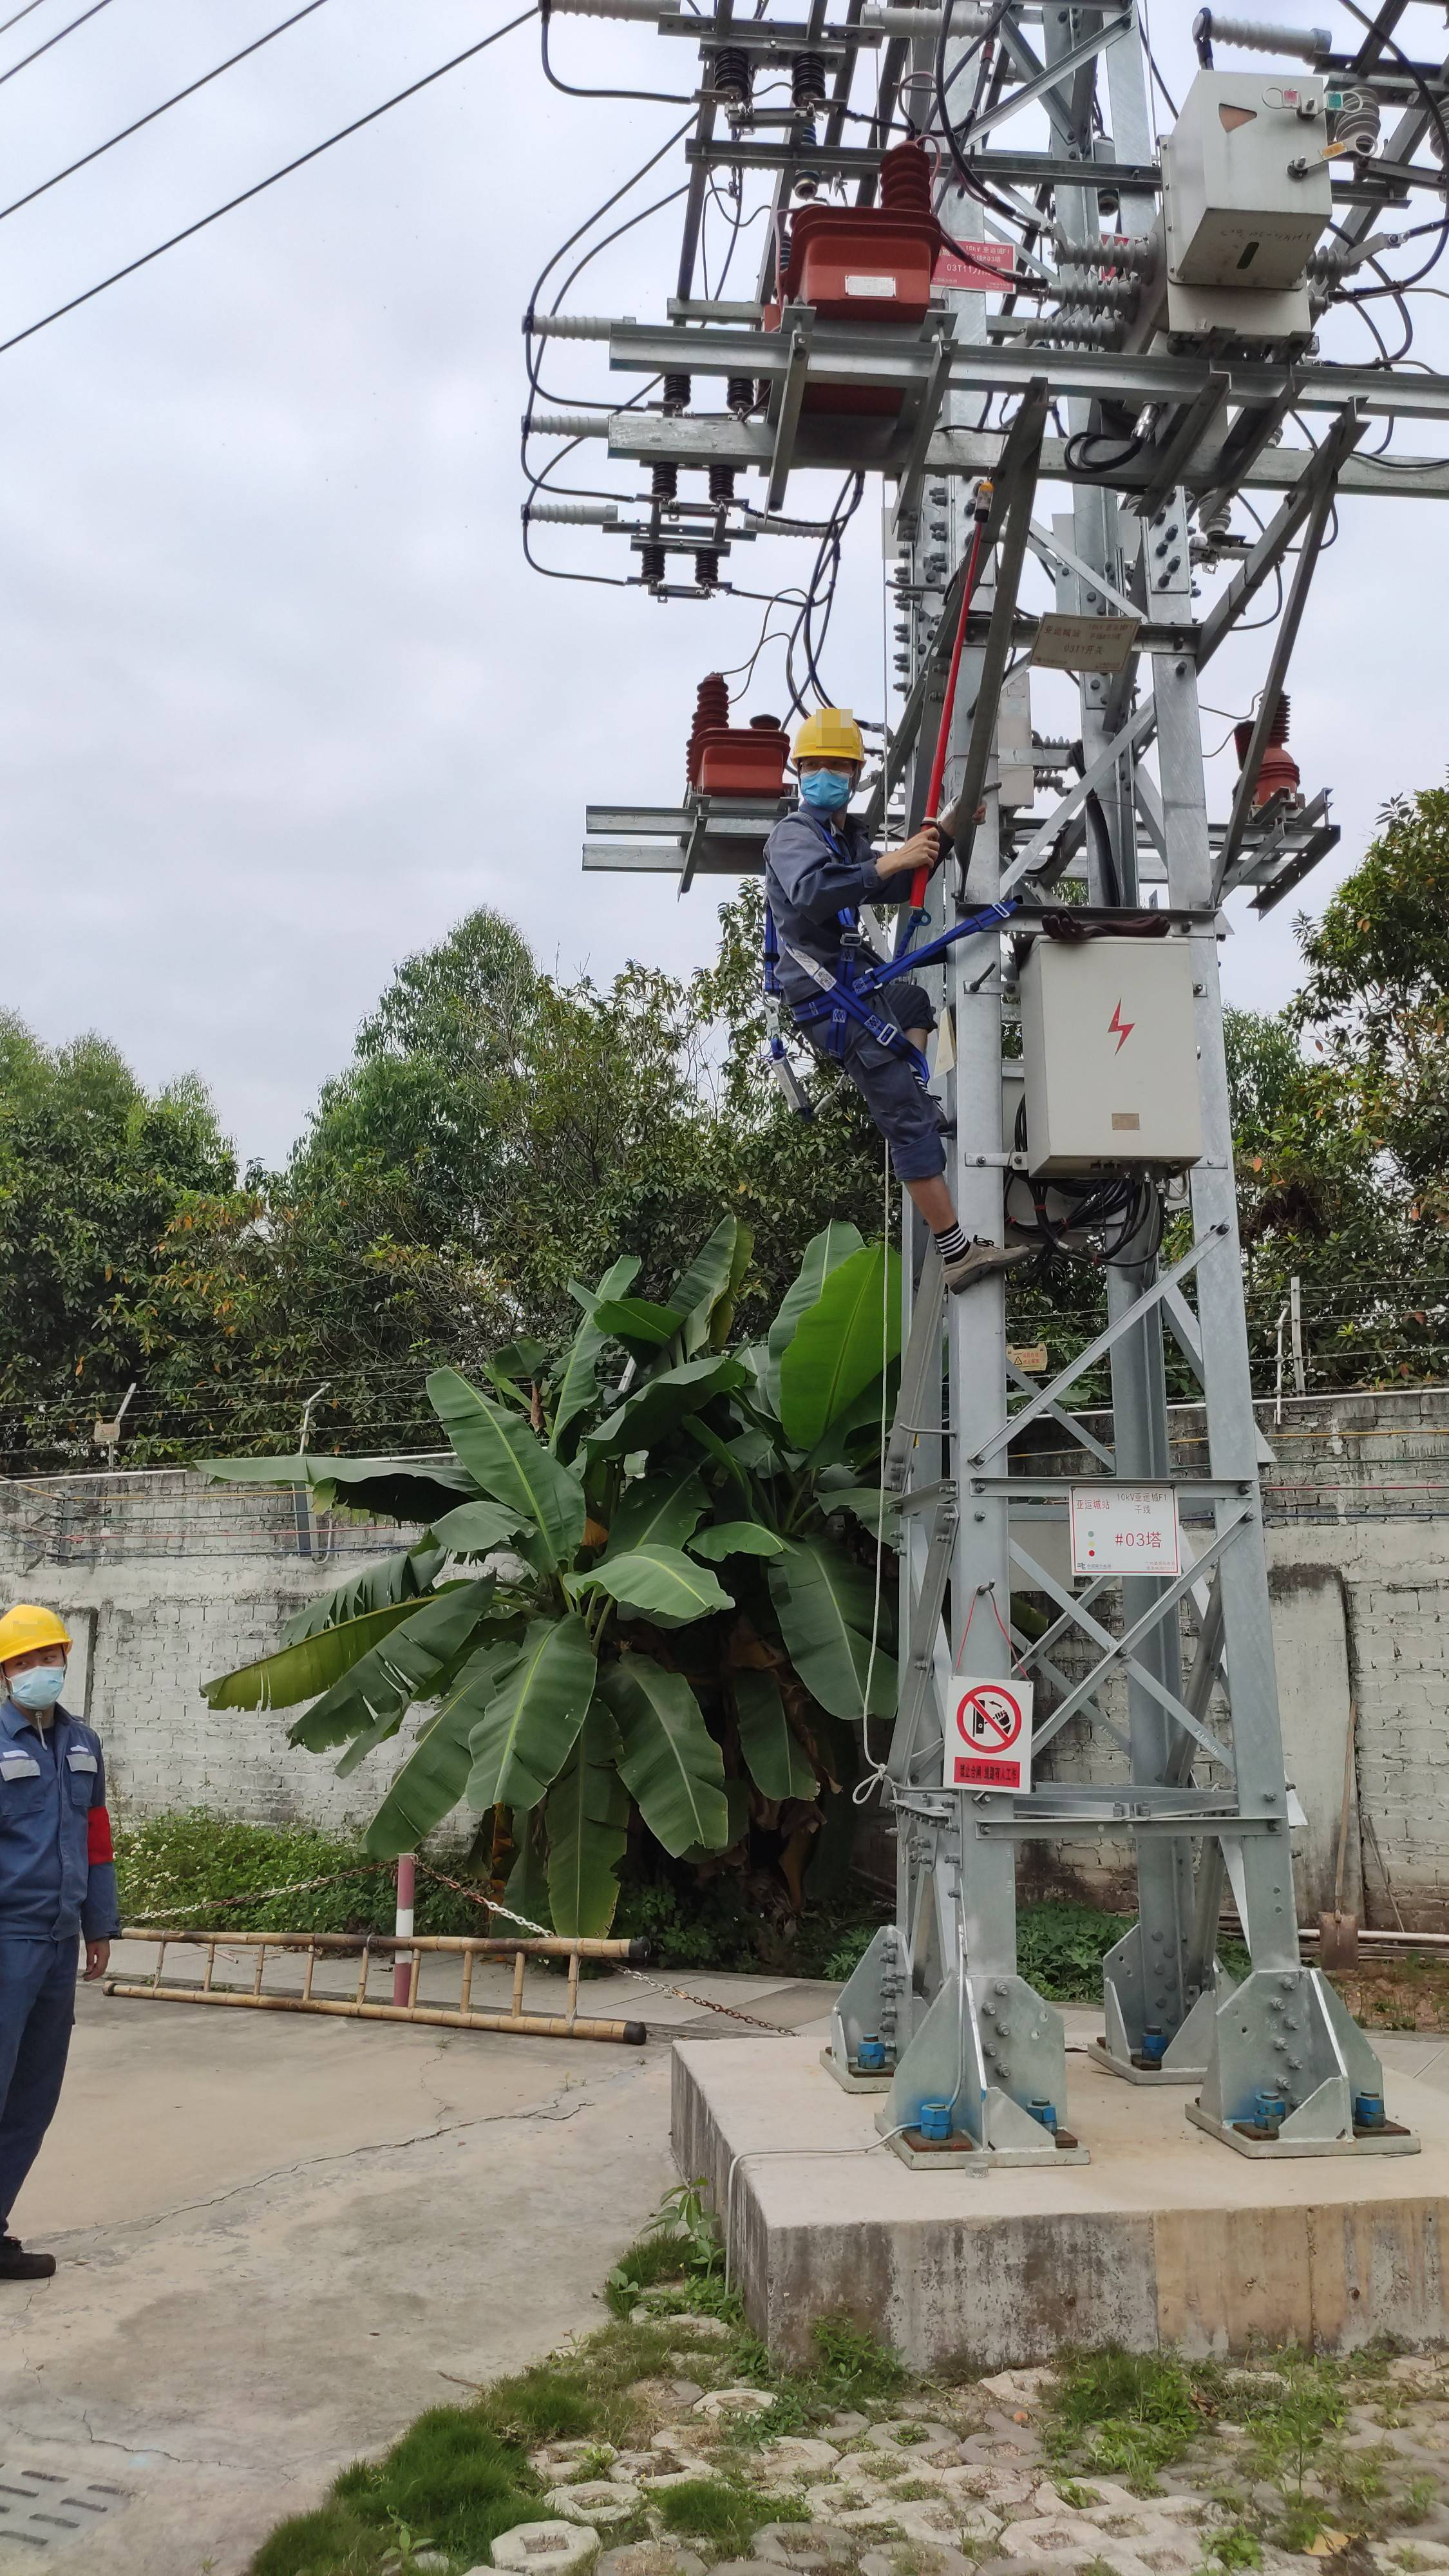downsuit: (805, 991, 957, 1196), (4, 1953, 81, 2243)
upsuit: (4, 1711, 119, 1937), (763, 810, 886, 985)
wrongbottom: (895, 1132, 966, 1247)
